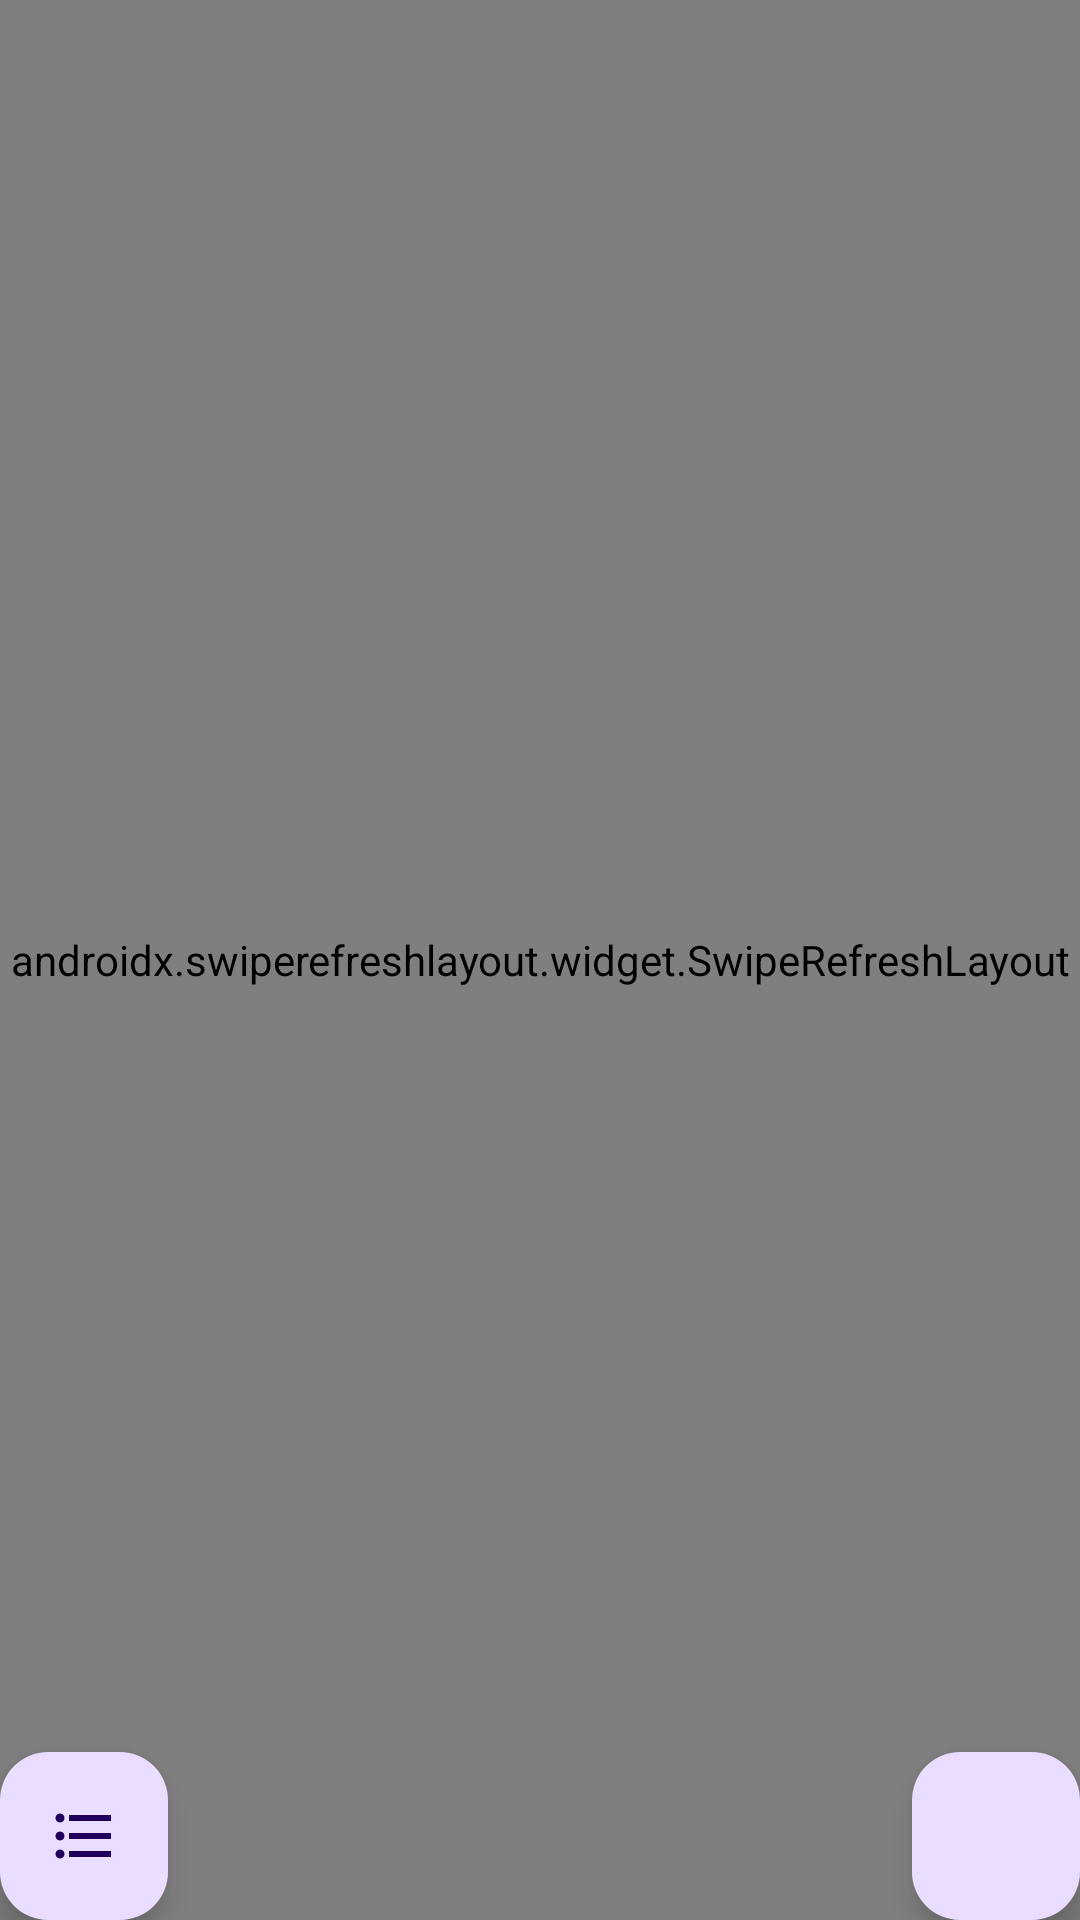

Locate icon controls on the screen. Image size 1080px×1920px, boxes as (x1, y1, x2, y2).
newslist: (0, 1752, 168, 1920)
